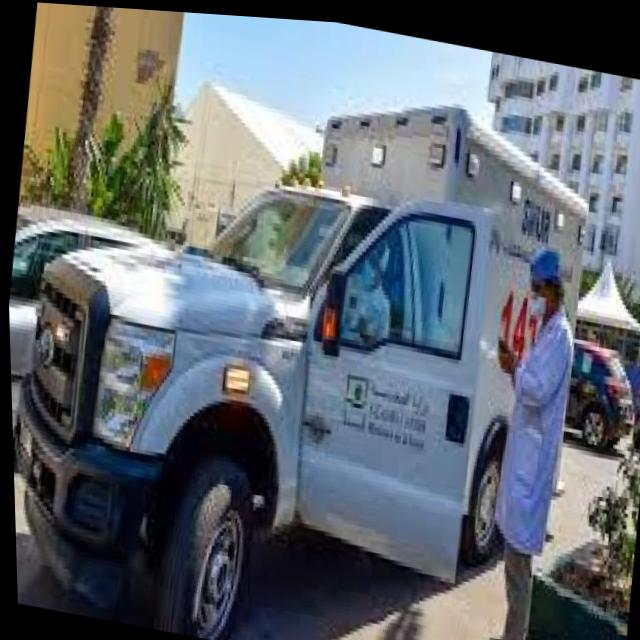ambulance: (0, 0, 617, 640)
